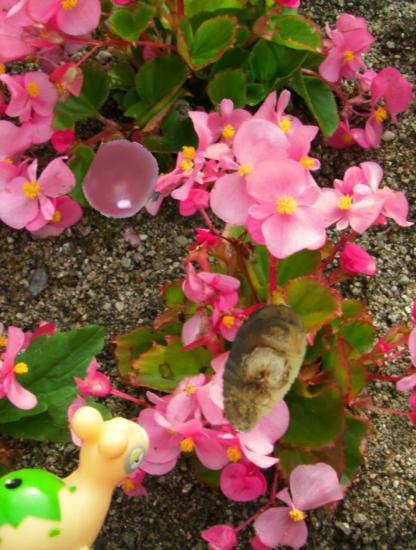Ginger: (194, 300, 330, 436)
Redcurrant: (85, 141, 165, 221)
